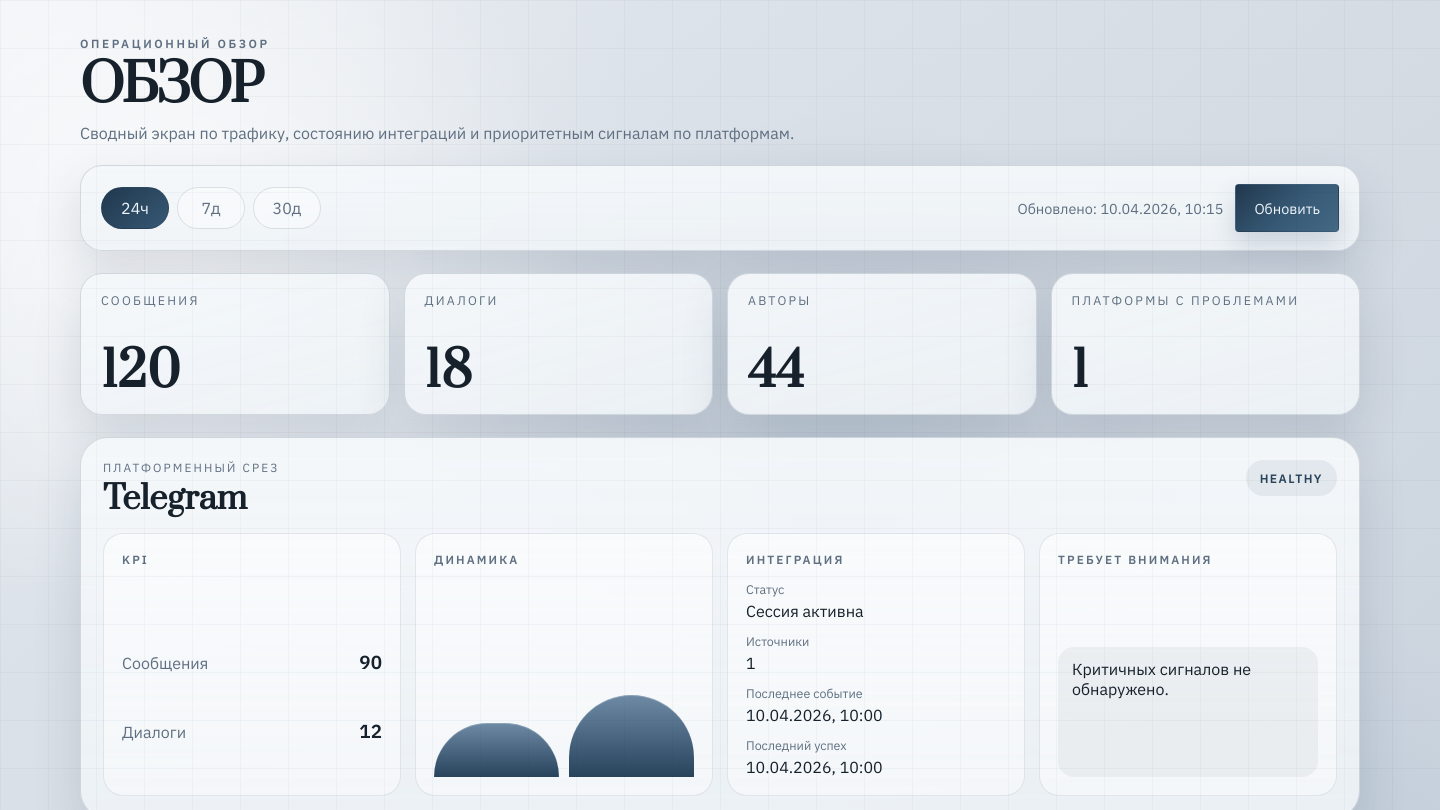
OverviewPage › switches the selected window and reloads the snapshot
Expected: the heading "Telegram" is shown, [103, 477, 247, 521]
Click the button "7д" at (211, 208), box [177, 187, 245, 229]
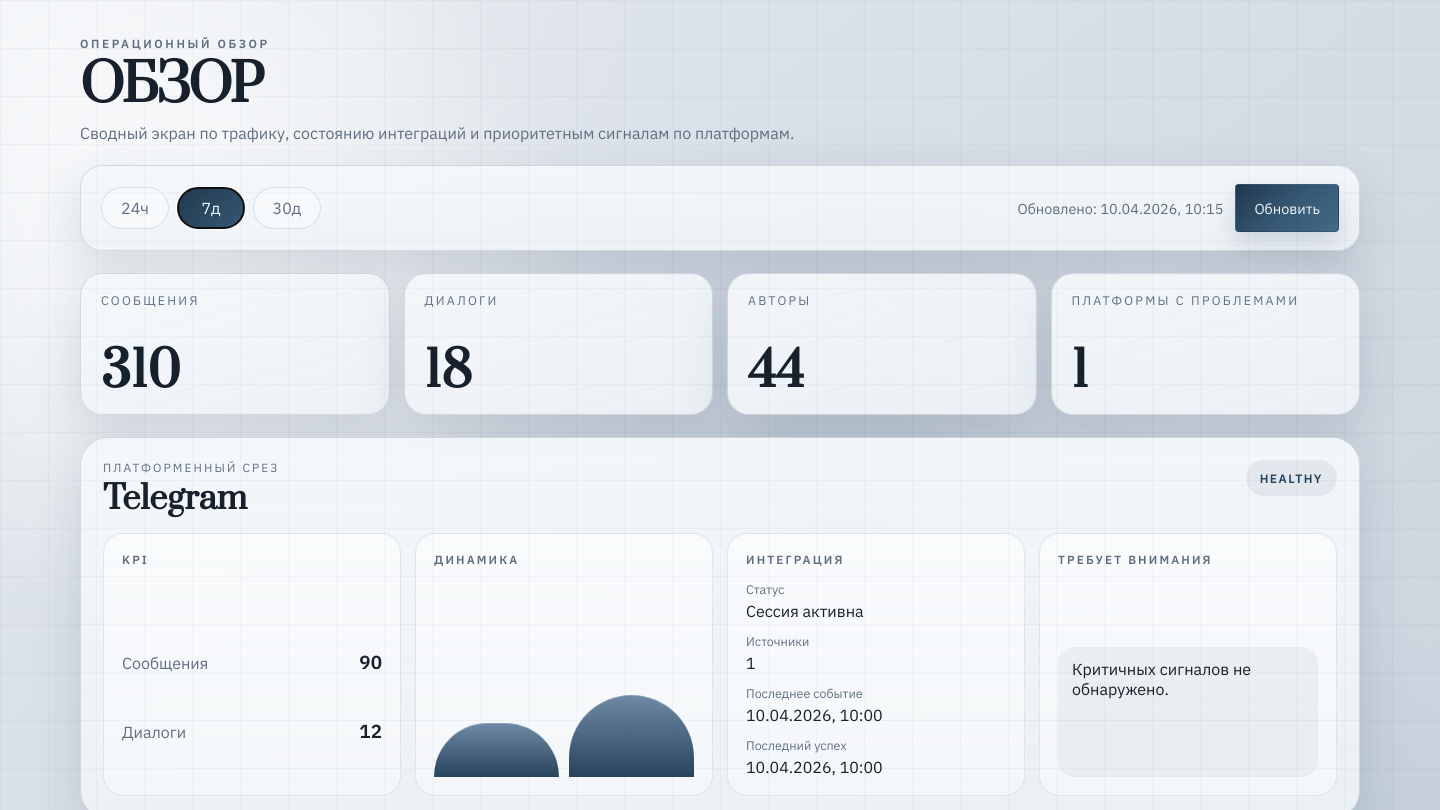
Result: the text "310" is shown at [101, 339, 181, 404]
